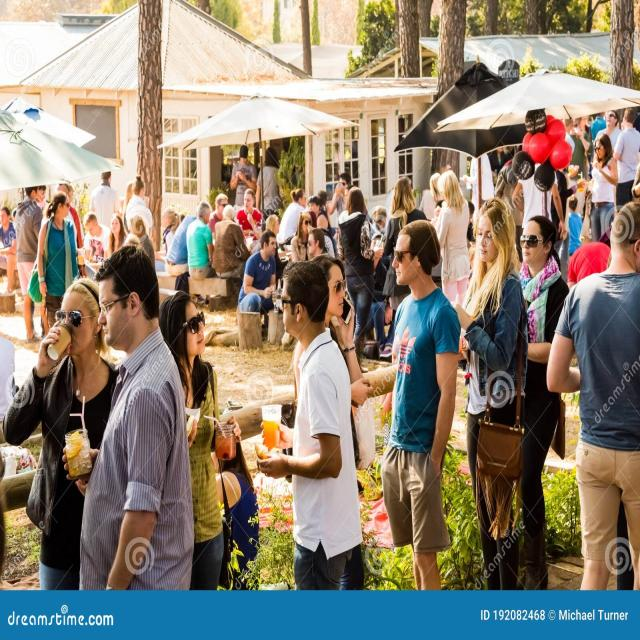human: (248, 256, 373, 594), (77, 247, 196, 590), (541, 186, 640, 594), (8, 271, 126, 592), (367, 220, 459, 594), (152, 290, 255, 592), (458, 204, 531, 593), (511, 208, 574, 589), (297, 247, 378, 486), (28, 188, 81, 338), (226, 224, 284, 338), (585, 123, 618, 241), (180, 200, 214, 282), (214, 201, 244, 273), (256, 146, 285, 210), (232, 140, 253, 204)
loitering: (356, 208, 459, 594), (78, 254, 197, 588), (256, 251, 367, 587), (8, 272, 120, 589), (456, 190, 526, 588), (506, 204, 573, 586), (151, 293, 238, 586), (301, 244, 377, 524), (230, 138, 256, 207)
